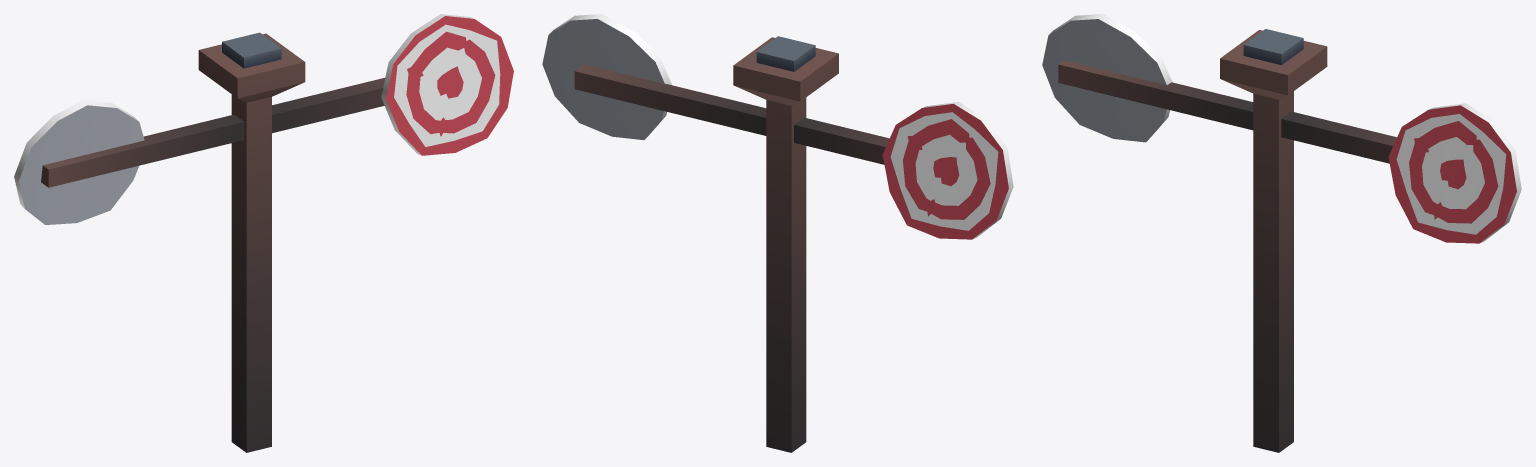
File: RotTargetX2.fbx
3 views of the same model, side by side, from view 1: azimuth 30°, elevation 25°; view 2: azimuth 150°, elevation 25°; view 3: azimuth 330°, elevation 25° (orthographic).
Visible parts, largest first — view 1: RotTargetX2; view 2: RotTargetX2; view 3: RotTargetX2.
Boxes of the visible parts, x1,y1,x2,y2 form: RotTargetX2: [14, 14, 513, 452]; RotTargetX2: [542, 14, 1013, 452]; RotTargetX2: [1042, 14, 1521, 452].
Size of the model in its own units: 94.49 by 74.66 by 13.21.
